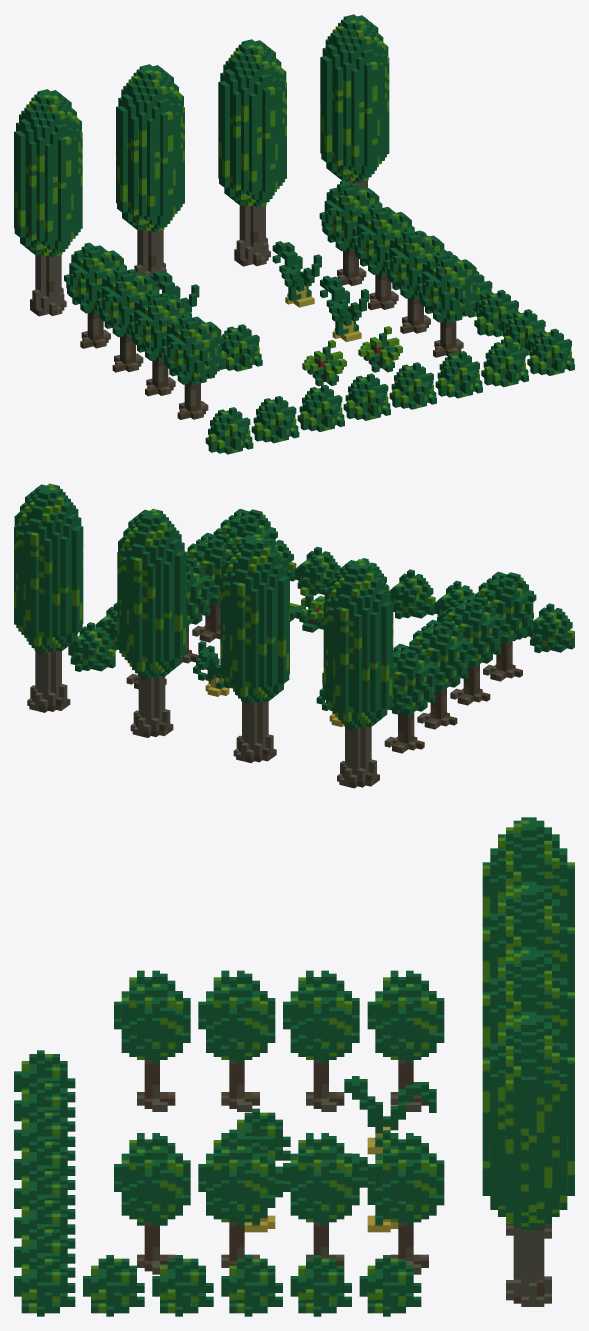
The model's file is trees_2_overtile.glb.
The picture shows the model from 3 angles, top to bottom: view 1: azimuth 30°, elevation 25°; view 2: azimuth 150°, elevation 25°; view 3: azimuth 270°, elevation 25°; orthographic projection. The views are drawn at different scales.
Visible parts, largest first — view 1: trees_2_overtile; view 2: trees_2_overtile; view 3: trees_2_overtile.
Boxes of the visible parts, left/top/right/bottom form: trees_2_overtile: left=14, top=14, right=574, bottom=454; trees_2_overtile: left=14, top=483, right=574, bottom=788; trees_2_overtile: left=14, top=817, right=574, bottom=1316.
Size of the model in its own units: 7.2 by 4 by 7.3.
Materials: 1 (1 with a texture image).
